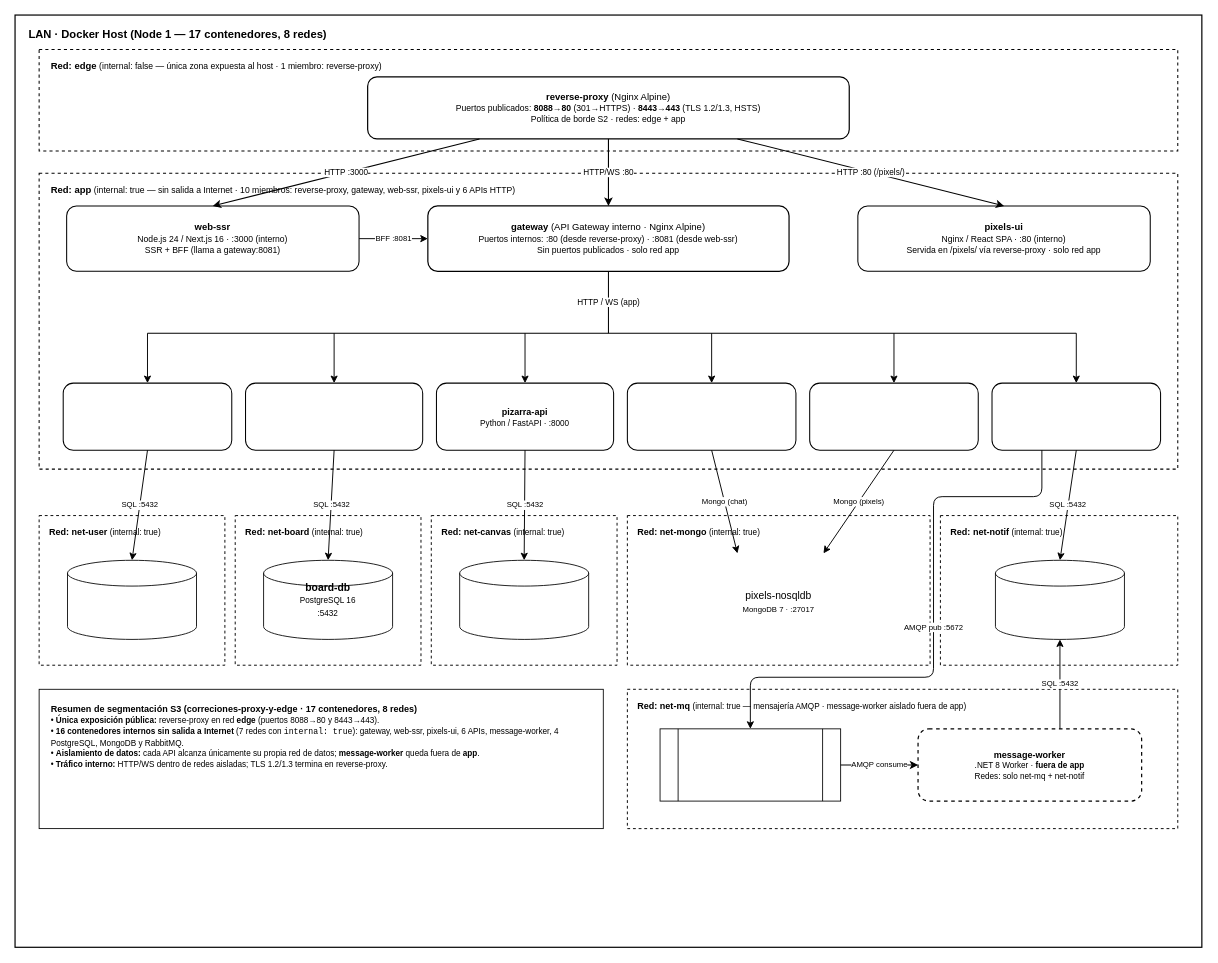
The diagram is 1218 pixels wide and 963 high, and some of its shapes have lost their labels. Each missing label, with the centre of its shape:
auth-api Go 1.23 · :8001: point (147, 416)
canvas-db PostgreSQL 16 :5432: point (524, 599)
chat-api Java 21 / Spring · :8090: point (711, 416)
collaboration-api Python / FastAPI · :8000: point (334, 416)
notification-api .NET 8 / C# · :8080: point (1076, 416)
notification-db PostgreSQL 16 :5432: point (1059, 599)
pixels-api Rust / Axum · :8000: point (893, 416)
rabbitmq RabbitMQ 3.13 · :5672 Exchange + Quorum + DLQ: point (750, 764)
user-db PostgreSQL 16 :5432: point (132, 599)
